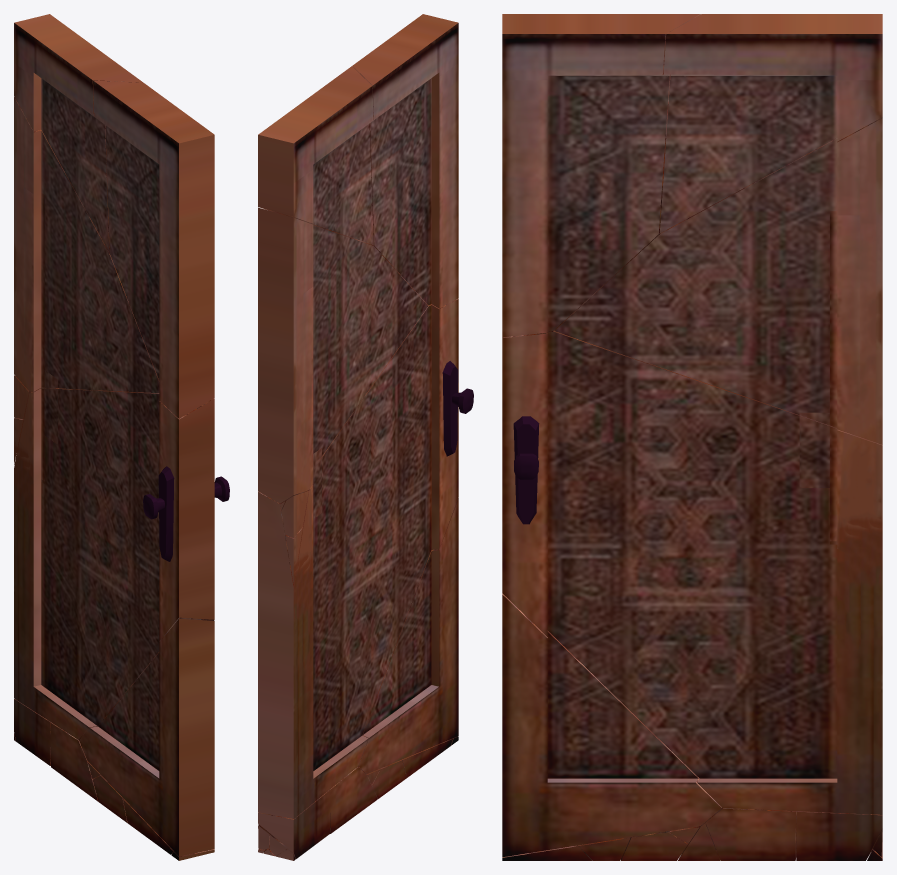
The model's file is Door_Base_Broken.fbx.
3 views of the same model, side by side, from view 1: azimuth 30°, elevation 25°; view 2: azimuth 150°, elevation 25°; view 3: azimuth 270°, elevation 25° (orthographic). The views are drawn at different scales.
Visible parts, largest first — view 1: Door_Base.001, Door_Base_cell.007, Door_Base_cell.002, Door_Base_cell.009, Door_Base_cell.010, Door_Base_cell.008_cell.006, Door_Base_cell.008_cell.003, Door_Base_cell.005_cell, Door_Base_cell.005_cell.005, Door_Base_cell.003_cell.003; view 2: Door_Base.001, Door_Base_cell.002, Door_Base_cell.007, Door_Base_cell.010, Door_Base_cell.009, Door_Base_cell.008_cell.003, Door_Base_cell.008_cell.006, Door_Base_cell.003_cell.003, Door_Base_cell.005_cell, Door_Base_cell.005_cell.005, Door_Base_cell.003_cell; view 3: Door_Base.001, Door_Base_cell.002, Door_Base_cell.007, Door_Base_cell.010, Door_Base_cell.009, Door_Base_cell.008_cell.006, Door_Base_cell.008_cell.003, Door_Base_cell.005_cell, Door_Base_cell.008_cell.002, Door_Base_cell.005_cell.001, Door_Base_cell.005_cell.005.
Boxes of the visible parts, <box> form: Door_Base.001: <box>14,387,229,739</box>; Door_Base_cell.007: <box>93,80,214,418</box>; Door_Base_cell.002: <box>14,97,159,393</box>; Door_Base_cell.009: <box>79,618,214,856</box>; Door_Base_cell.010: <box>14,14,143,252</box>; Door_Base_cell.008_cell.006: <box>50,722,98,801</box>; Door_Base_cell.008_cell.003: <box>14,699,50,765</box>; Door_Base_cell.005_cell: <box>92,775,127,822</box>; Door_Base_cell.005_cell.005: <box>123,798,173,854</box>; Door_Base_cell.003_cell.003: <box>14,375,28,419</box>; Door_Base.001: <box>258,298,473,818</box>; Door_Base_cell.002: <box>258,207,427,503</box>; Door_Base_cell.007: <box>352,14,458,308</box>; Door_Base_cell.010: <box>258,66,373,245</box>; Door_Base_cell.009: <box>358,498,458,774</box>; Door_Base_cell.008_cell.003: <box>258,790,329,859</box>; Door_Base_cell.008_cell.006: <box>330,767,377,833</box>; Door_Base_cell.003_cell.003: <box>281,491,308,538</box>; Door_Base_cell.005_cell: <box>371,760,406,798</box>; Door_Base_cell.005_cell.005: <box>402,738,452,777</box>; Door_Base_cell.003_cell: <box>285,527,302,585</box>; Door_Base.001: <box>502,330,882,814</box>; Door_Base_cell.002: <box>554,117,882,444</box>; Door_Base_cell.007: <box>502,14,700,337</box>; Door_Base_cell.010: <box>659,14,882,233</box>; Door_Base_cell.009: <box>502,593,721,857</box>; Door_Base_cell.008_cell.006: <box>700,808,796,860</box>; Door_Base_cell.008_cell.003: <box>796,811,882,860</box>; Door_Base_cell.005_cell: <box>621,831,687,860</box>; Door_Base_cell.008_cell.002: <box>678,823,719,860</box>; Door_Base_cell.005_cell.001: <box>502,845,591,860</box>; Door_Base_cell.005_cell.005: <box>577,837,630,860</box>.
Size of the model in its own units: 27.74 by 240 by 100.
Materials: 2 (1 with a texture image).
